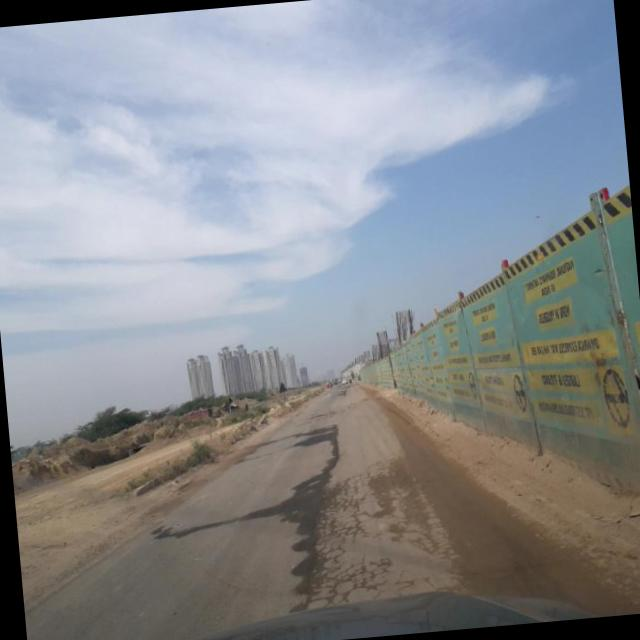crack: (291, 435, 447, 603)
pothole: (278, 421, 360, 609)
